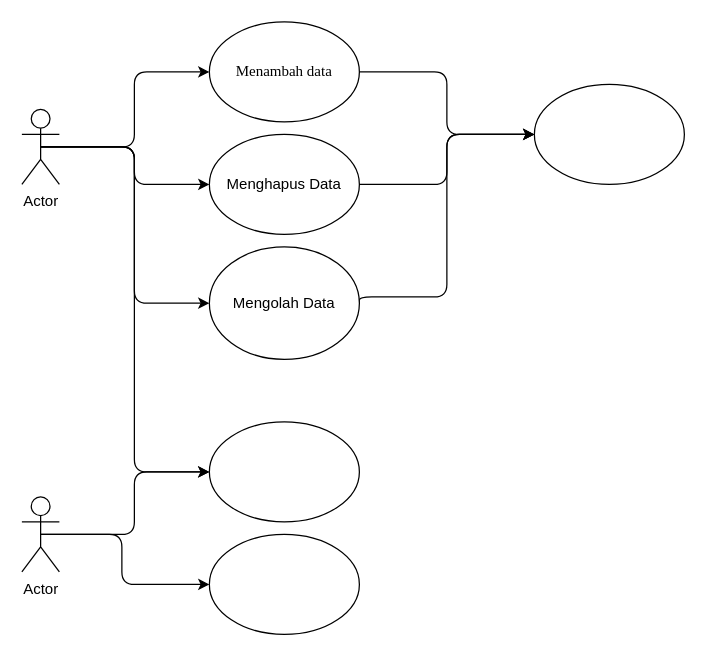
Some shapes in this 706 by 656 pixel diagram are drawn without their labels. The shapes that lost their labels are listed below. From the top down, each one's centre as x and y in pixels, then its label:
At (x=608, y=133): "Login".
At (x=283, y=471): "Mencari Data".
At (x=283, y=583): "Melihat Data".
